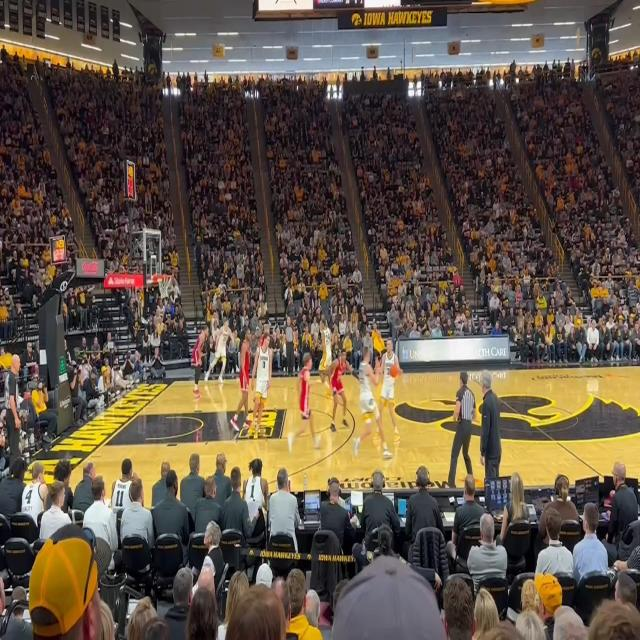Ball: (390, 366, 397, 378)
Hoop: (157, 274, 173, 298)
Player: (352, 346, 393, 461), (288, 353, 322, 453), (323, 348, 360, 433), (372, 338, 401, 442), (230, 326, 253, 432), (251, 333, 272, 440), (204, 318, 234, 391), (254, 326, 272, 414), (192, 326, 209, 397), (319, 318, 334, 395)
Ref: (448, 370, 477, 489), (4, 354, 21, 476), (282, 316, 296, 378)
